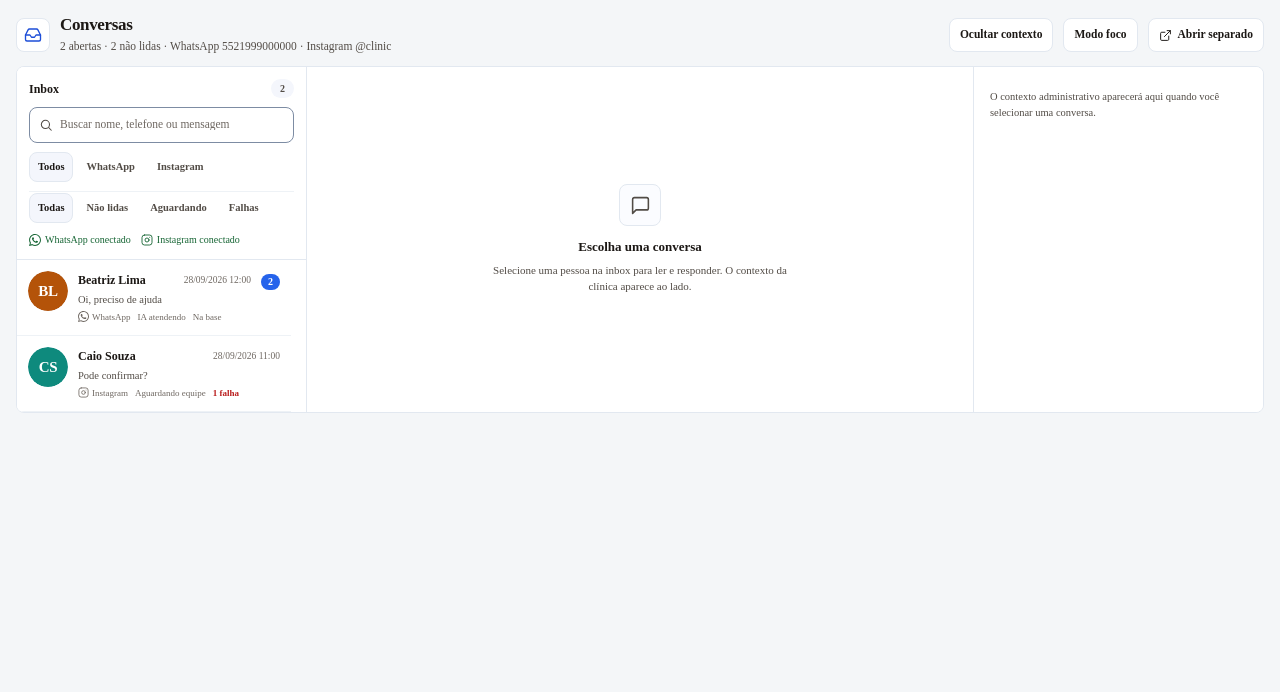
Test: workspace operacional de Conversas › seleção, URL c=, status IA/equipe e contexto veterinário administrativo
Expected: the element named "Inbox de conversas" is shown, [17, 67, 307, 412]
Step 1. Click the button "Beatriz Lima" → [154, 298], box [17, 260, 291, 336]
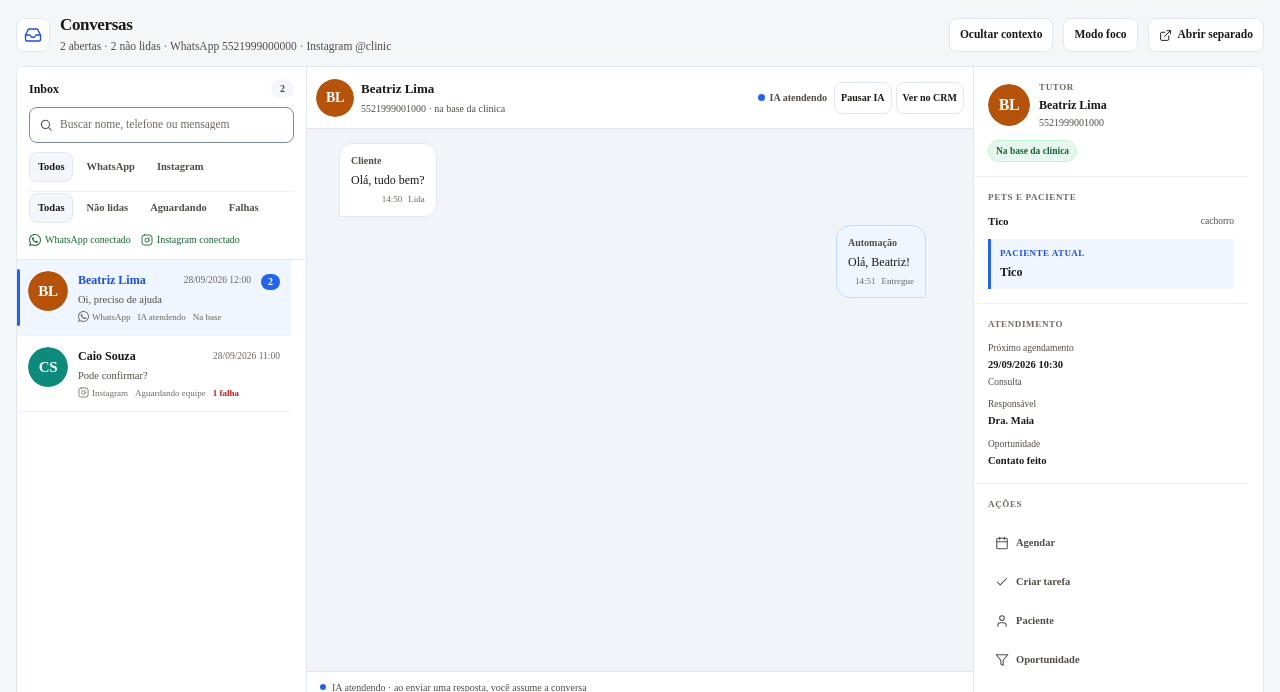
Now the heading "Beatriz Lima" in the row of "Ver no CRM" is shown, box [361, 81, 434, 96]
Now the message reads "IA atendendo", box [770, 92, 827, 103]
Now the text "Tutor" is shown, box [1039, 82, 1074, 92]
Step 2. Click the button "Pausar IA" → [863, 98], box [834, 82, 892, 114]
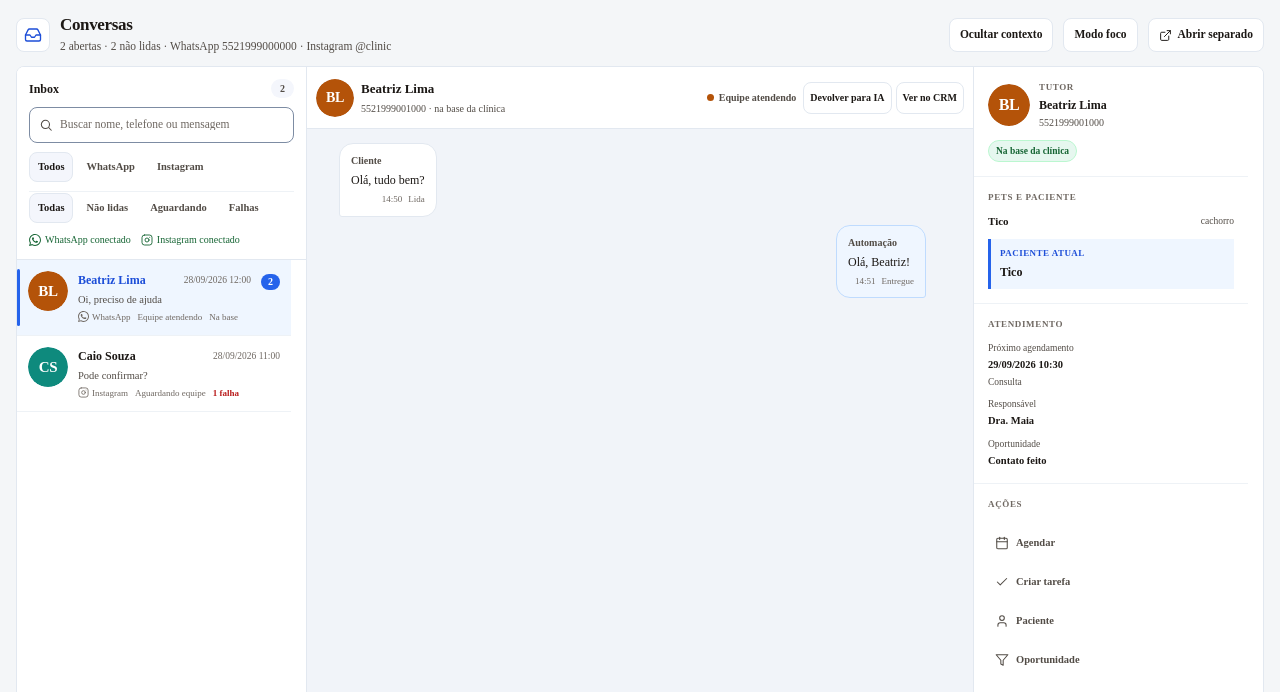
Now the button "Devolver para IA" is shown, box [803, 82, 892, 114]
Now the message reads "Equipe atendendo", box [719, 92, 796, 103]
